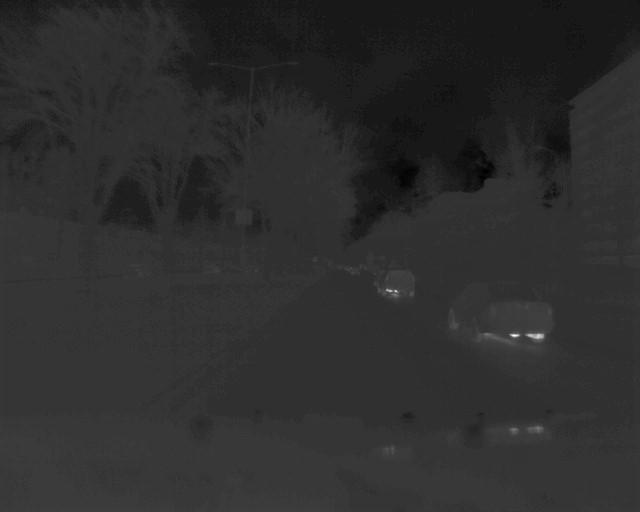car: (445, 280, 557, 348), (371, 267, 416, 298)
